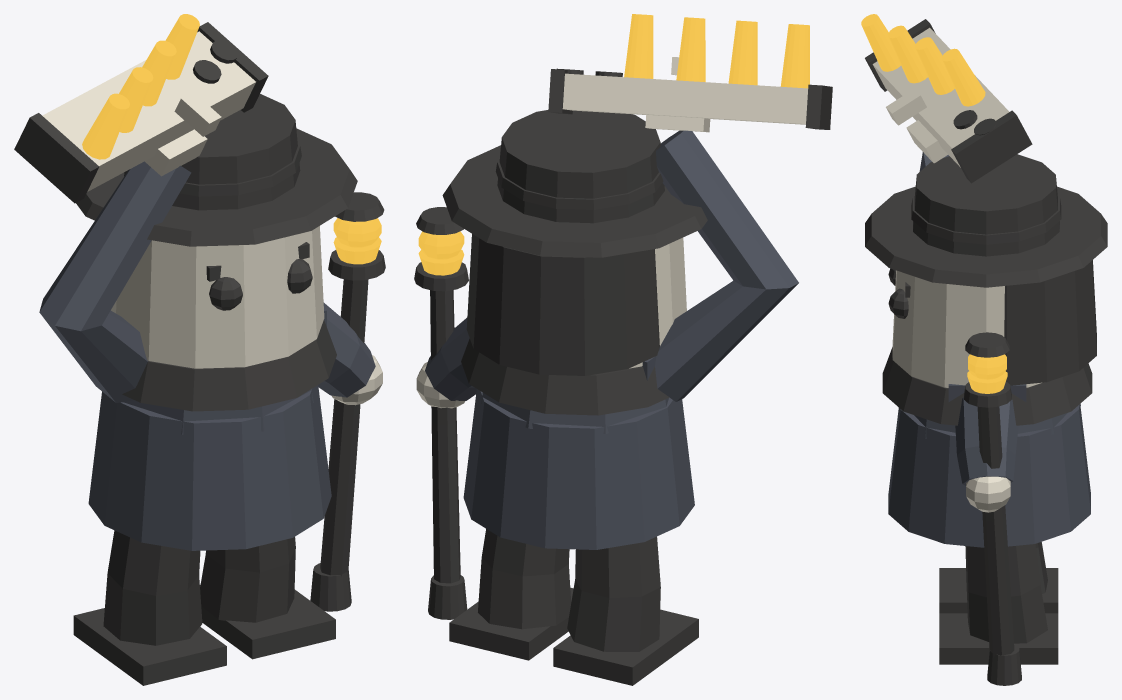
File: beadle.glb
3 views of the same model, side by side, from view 1: azimuth 30°, elevation 25°; view 2: azimuth 150°, elevation 25°; view 3: azimuth 270°, elevation 25° (orthographic). The views are drawn at different scales.
Parts seen in each view (by area): view 1: beadle_dark, beadle_body, beadle_bone, beadle_glow; view 2: beadle_dark, beadle_body, beadle_bone, beadle_glow; view 3: beadle_dark, beadle_body, beadle_bone, beadle_glow.
Boxes of the visible parts, x1,y1,x2,y2 form: beadle_dark: [14, 22, 385, 685]; beadle_body: [39, 161, 375, 550]; beadle_bone: [42, 31, 382, 405]; beadle_glow: [82, 14, 381, 264]; beadle_dark: [414, 68, 832, 685]; beadle_body: [425, 130, 798, 549]; beadle_bone: [416, 57, 808, 408]; beadle_glow: [418, 14, 809, 275]; beadle_dark: [865, 19, 1107, 685]; beadle_body: [888, 152, 1090, 547]; beadle_bone: [872, 27, 1041, 512]; beadle_glow: [861, 14, 1007, 393].
Size of the model in its own units: 1.87 by 2.95 by 1.19.
